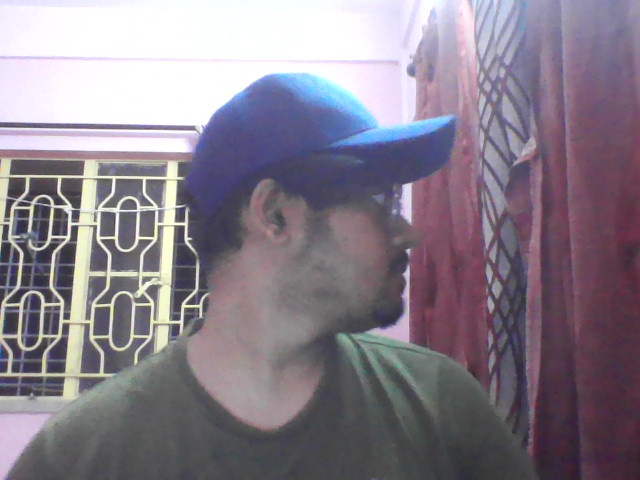Helmet: (157, 59, 464, 204)
